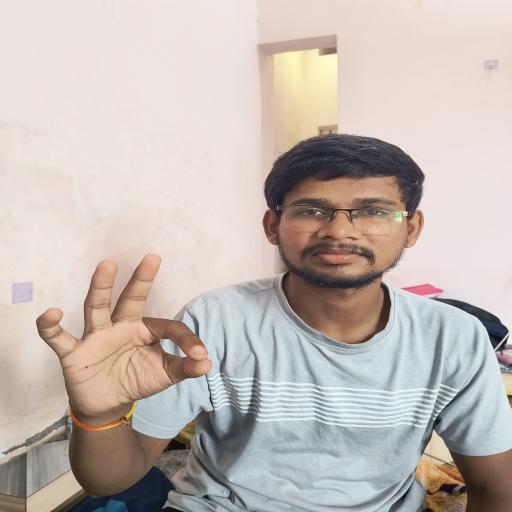Previous: (17, 252, 246, 418)
